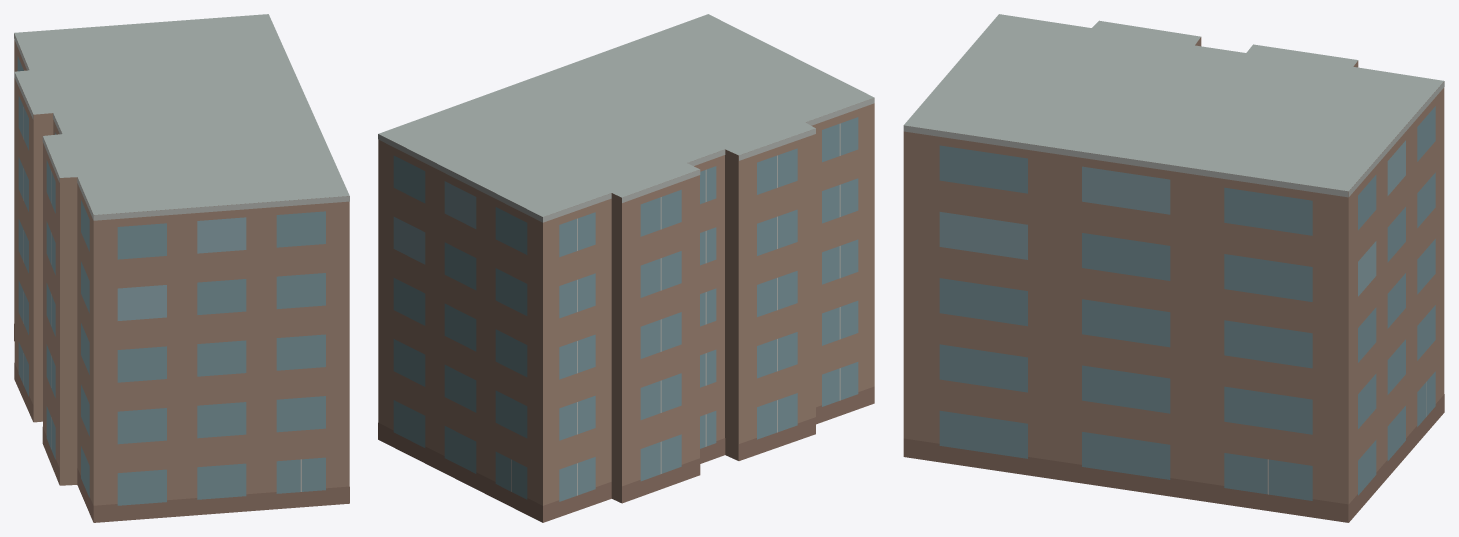
Rendered from survey-upis-32898739.glb.
3 views of the same model, side by side, from view 1: azimuth 30°, elevation 25°; view 2: azimuth 150°, elevation 25°; view 3: azimuth 270°, elevation 25° (orthographic). The views are drawn at different scales.
Visible parts, largest first — view 1: survey-upis-32898739.tmp; view 2: survey-upis-32898739.tmp; view 3: survey-upis-32898739.tmp.
Boxes of the visible parts, left/top/right/bottom form: survey-upis-32898739.tmp: left=14, top=14, right=349, bottom=522; survey-upis-32898739.tmp: left=378, top=14, right=874, bottom=522; survey-upis-32898739.tmp: left=903, top=14, right=1444, bottom=522.
Bounding box in the file's own units: 15.27 × 13.3 × 19.68.
